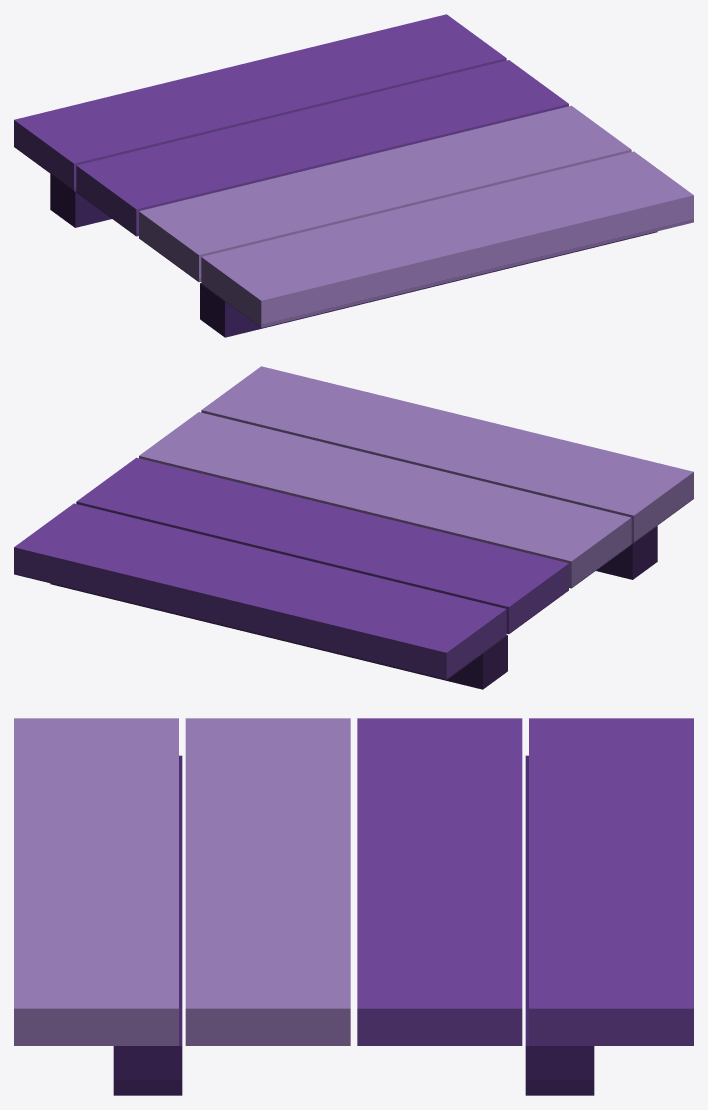
The model's file is model_48_crystal.glb.
3 views of the same model, one above another, from view 1: azimuth 30°, elevation 25°; view 2: azimuth 150°, elevation 25°; view 3: azimuth 270°, elevation 25° (orthographic). The views are drawn at different scales.
Size of the model in its own units: 1 by 0.14 by 0.99.
Materials: 1 (1 with a texture image).
